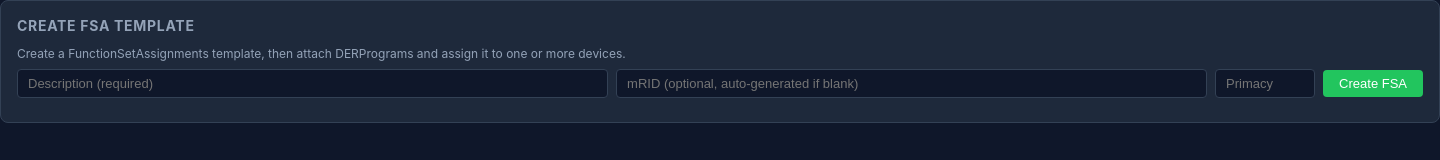
CreateFsa › posts the typed mRID and primacy and renders the created href and mRID
The image size is (1440, 160).
Type "roof fleet" into the field with id "newFSADesc" at [312, 84], box [17,69,608,98]
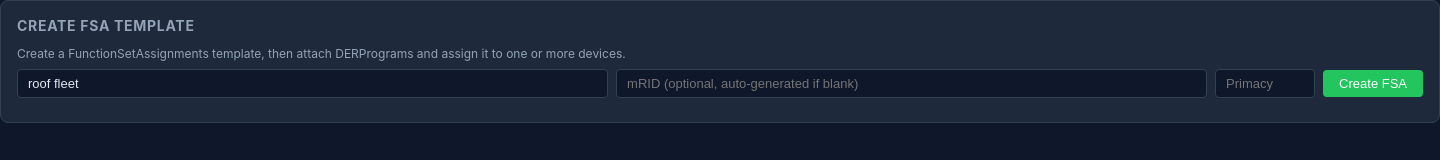
Type "fsa-42" into the field with id "newFSAMRID" at [912, 84], box [616,69,1207,98]
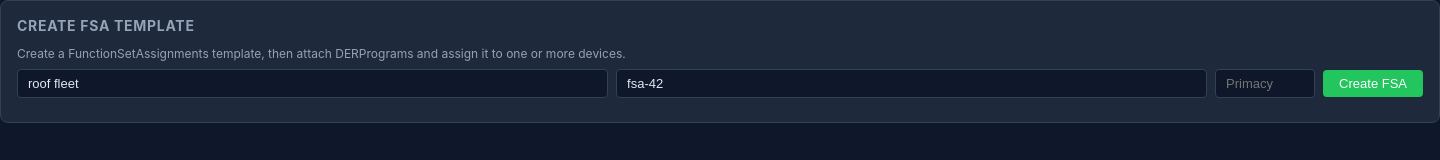
Type "1" into the number field with id "newFSAPrimacy" at [1265, 84], box [1215,69,1315,98]
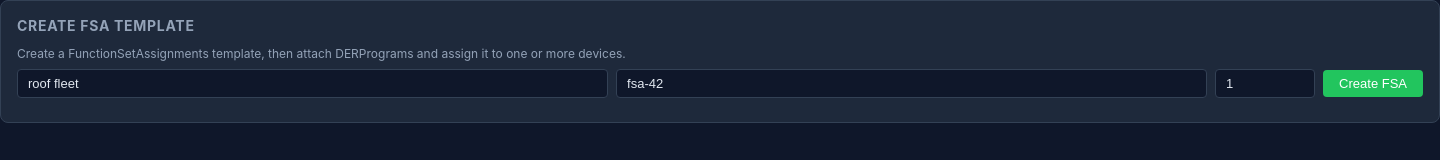
Click the button "Create FSA" at [1373, 84], box [1323,70,1423,97]
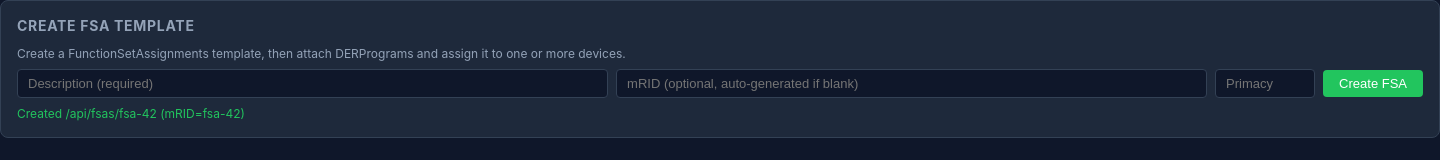
Now the text with id "createFSAResult" reads "Created /api/fsas/fsa-42 (mRID=fsa-42)", box [17,106,245,121]
